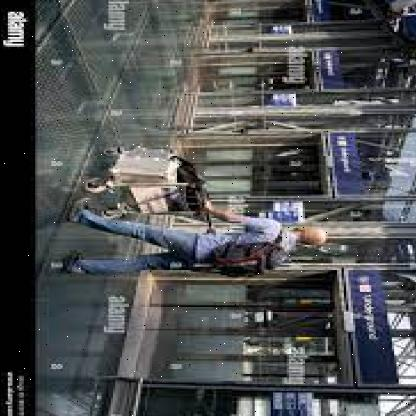airport-trolley: (81, 147, 211, 225)
